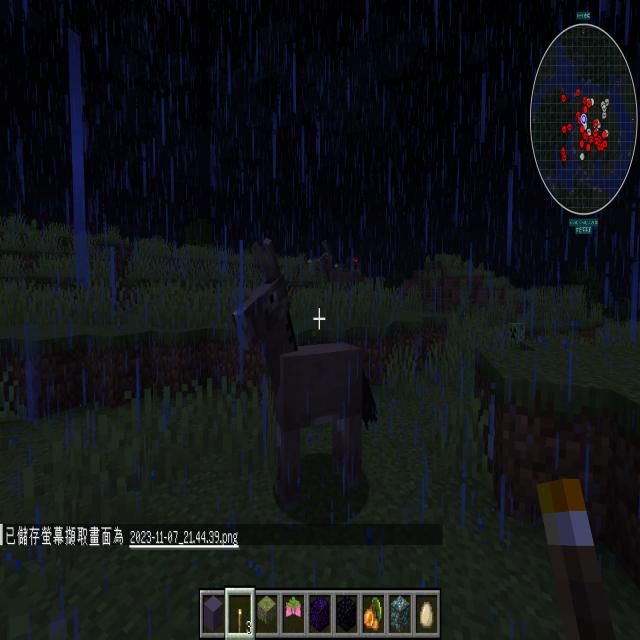Creeper: (507, 320, 528, 354)
Spider: (342, 256, 363, 274)
